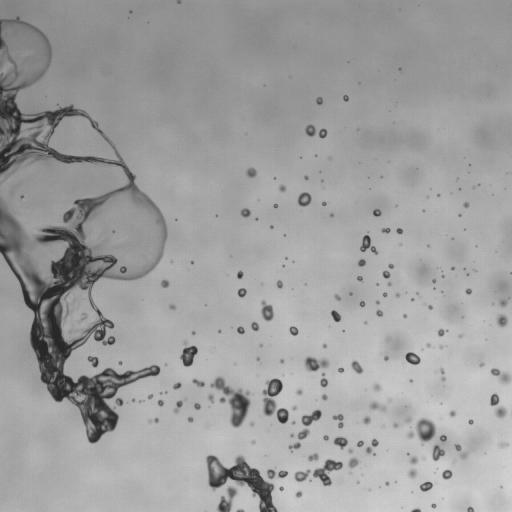droplet: (210, 376, 253, 427), (262, 378, 289, 423), (406, 417, 436, 446), (178, 340, 197, 367), (304, 356, 329, 372), (490, 368, 511, 385), (260, 299, 274, 321), (454, 443, 469, 459), (368, 400, 386, 413), (365, 438, 378, 455), (432, 444, 445, 461), (333, 436, 348, 450), (404, 352, 420, 365), (297, 192, 311, 206), (350, 360, 363, 374), (347, 456, 360, 469), (332, 413, 343, 428), (496, 314, 508, 327), (406, 452, 418, 465), (419, 480, 433, 491), (305, 124, 316, 137), (330, 310, 341, 322), (192, 378, 205, 388), (87, 356, 98, 367), (0, 62, 11, 73), (13, 95, 24, 106), (33, 159, 44, 170), (273, 191, 284, 202), (11, 210, 22, 221), (375, 216, 386, 227), (52, 217, 63, 228), (150, 268, 161, 279), (365, 302, 376, 313), (20, 329, 31, 340), (69, 348, 80, 359), (26, 349, 37, 360), (312, 349, 323, 360), (85, 366, 96, 377), (323, 366, 334, 377), (181, 379, 192, 390), (228, 380, 239, 391), (237, 382, 248, 393), (494, 384, 505, 395), (116, 386, 127, 397), (170, 389, 181, 400), (373, 391, 384, 402), (273, 394, 284, 405), (164, 396, 175, 407), (252, 399, 263, 410), (181, 403, 192, 414), (221, 403, 232, 414), (246, 404, 257, 415), (70, 406, 81, 417), (456, 411, 467, 422), (382, 412, 393, 423), (75, 421, 86, 432), (353, 447, 364, 458), (223, 457, 234, 468), (437, 457, 448, 468), (431, 473, 442, 484), (270, 475, 281, 486), (239, 482, 250, 493), (216, 484, 227, 495), (269, 490, 280, 501), (229, 498, 240, 509), (498, 297, 510, 307), (246, 167, 257, 177), (407, 468, 417, 479), (437, 328, 449, 337), (442, 469, 452, 479), (240, 208, 251, 217), (288, 326, 299, 335), (307, 452, 318, 461), (318, 128, 327, 138), (372, 382, 382, 391), (362, 415, 371, 425), (497, 441, 509, 448), (237, 288, 246, 297), (36, 104, 45, 113), (119, 176, 128, 185), (65, 200, 74, 209), (356, 266, 365, 275), (236, 278, 245, 287), (400, 293, 409, 302), (498, 306, 507, 315), (25, 309, 34, 318), (255, 315, 264, 324), (104, 327, 113, 336), (94, 364, 103, 373), (344, 365, 353, 374), (204, 375, 213, 384), (202, 384, 211, 393), (214, 388, 223, 397), (105, 397, 114, 406), (199, 397, 208, 406), (113, 405, 122, 414), (187, 407, 196, 416), (368, 409, 377, 418), (242, 414, 251, 423), (336, 428, 345, 437), (411, 434, 420, 443), (429, 435, 438, 444), (346, 438, 355, 447), (315, 459, 324, 468), (326, 469, 335, 478), (225, 477, 234, 486), (295, 481, 304, 490), (251, 321, 259, 331), (207, 393, 215, 403), (373, 208, 381, 217), (357, 258, 366, 266), (160, 279, 169, 287), (115, 397, 123, 406), (505, 364, 511, 375), (505, 403, 511, 414), (420, 505, 431, 511), (278, 184, 286, 192), (382, 270, 390, 278), (356, 440, 364, 448), (276, 280, 283, 289), (172, 382, 181, 389), (334, 293, 341, 301), (237, 326, 244, 334), (295, 388, 303, 395), (194, 402, 201, 410), (449, 409, 456, 417), (316, 96, 322, 105), (381, 227, 390, 233), (237, 270, 243, 279), (392, 422, 401, 428), (376, 309, 383, 316), (384, 336, 391, 343), (157, 399, 164, 406), (405, 416, 412, 423), (439, 434, 446, 441), (295, 490, 302, 497), (38, 76, 45, 83), (59, 101, 66, 108), (49, 104, 56, 111), (56, 160, 63, 167), (71, 160, 78, 167), (81, 160, 88, 167), (243, 162, 250, 169), (129, 166, 136, 173), (273, 179, 280, 186), (16, 187, 23, 194), (86, 191, 93, 198), (1, 192, 8, 199), (79, 192, 86, 199), (150, 195, 157, 202), (457, 205, 464, 212), (247, 213, 254, 220), (389, 228, 396, 235), (163, 240, 170, 247), (162, 248, 169, 255), (156, 261, 163, 268), (443, 268, 450, 275), (97, 276, 104, 283), (385, 286, 392, 293), (16, 291, 23, 298), (17, 294, 24, 301), (102, 311, 109, 318), (491, 319, 498, 326), (24, 325, 31, 332), (244, 325, 251, 332), (298, 359, 305, 366), (358, 360, 365, 367), (484, 364, 491, 371), (498, 365, 505, 372), (316, 366, 323, 373), (116, 367, 123, 374), (62, 368, 69, 375), (216, 370, 223, 377), (491, 374, 498, 381), (223, 379, 230, 386), (166, 384, 173, 391), (366, 385, 373, 392), (320, 386, 327, 393), (46, 394, 53, 401), (152, 394, 159, 401), (364, 398, 371, 405), (385, 402, 392, 409), (305, 408, 312, 415), (287, 413, 294, 420), (424, 413, 431, 420), (411, 416, 418, 423), (494, 416, 501, 423), (396, 417, 403, 424), (115, 419, 122, 426), (385, 421, 392, 428), (298, 423, 305, 430), (411, 427, 418, 434), (433, 430, 440, 437), (99, 433, 106, 440), (328, 433, 335, 440), (291, 436, 298, 443), (364, 439, 371, 446), (438, 441, 445, 448), (460, 443, 467, 450), (451, 449, 458, 456), (341, 459, 348, 466), (200, 461, 207, 468), (406, 462, 413, 469), (412, 462, 419, 469), (352, 465, 359, 472), (287, 471, 294, 478), (260, 472, 267, 479), (202, 474, 209, 481), (313, 476, 320, 483), (253, 494, 260, 501), (168, 304, 176, 310), (426, 342, 434, 348), (506, 299, 511, 308), (506, 316, 511, 325), (506, 380, 511, 389), (210, 506, 219, 511), (342, 94, 348, 101), (463, 201, 469, 208), (396, 228, 403, 234), (465, 288, 471, 295), (359, 300, 365, 307), (337, 367, 344, 373), (321, 394, 327, 401), (187, 416, 193, 423), (439, 344, 447, 349), (388, 263, 394, 269), (357, 276, 363, 282), (147, 393, 153, 399), (386, 397, 392, 403), (248, 421, 254, 427), (323, 435, 329, 441), (430, 502, 436, 508), (467, 506, 474, 511), (291, 405, 297, 410), (468, 419, 473, 425), (348, 447, 353, 453), (278, 486, 284, 491), (228, 507, 235, 511), (428, 507, 435, 511), (431, 507, 438, 511), (322, 200, 327, 205), (273, 203, 278, 208), (382, 292, 387, 297), (395, 292, 400, 297), (322, 343, 327, 348), (479, 362, 484, 367), (421, 455, 426, 460), (19, 16, 24, 21), (30, 20, 35, 25), (33, 22, 38, 27), (36, 24, 41, 29), (39, 26, 44, 31), (45, 33, 50, 38), (48, 39, 53, 44), (50, 45, 55, 50), (50, 49, 55, 54), (50, 55, 55, 60), (49, 60, 54, 65), (47, 65, 52, 70), (44, 70, 49, 75), (13, 97, 18, 102), (321, 100, 326, 105), (16, 104, 21, 109), (72, 104, 77, 109), (91, 115, 96, 120), (304, 120, 309, 125), (301, 123, 306, 128), (97, 124, 102, 129), (314, 128, 319, 133), (313, 132, 318, 137), (325, 132, 330, 137), (305, 134, 310, 139), (108, 135, 113, 140), (63, 162, 68, 167), (116, 165, 121, 170), (254, 166, 259, 171), (255, 170, 260, 175), (318, 173, 323, 178), (249, 176, 254, 181), (133, 178, 138, 183), (285, 185, 290, 190), (274, 187, 279, 192), (302, 187, 307, 192), (279, 191, 284, 196), (294, 192, 299, 197), (72, 195, 77, 200), (310, 195, 315, 200), (293, 199, 298, 204), (309, 199, 314, 204), (468, 202, 473, 207), (72, 203, 77, 208), (239, 204, 244, 209), (304, 204, 309, 209), (247, 205, 252, 210), (299, 205, 304, 210), (64, 206, 69, 211), (159, 207, 164, 212), (235, 209, 240, 214), (242, 216, 247, 221), (361, 230, 366, 235), (394, 232, 399, 237), (368, 233, 373, 238), (357, 240, 362, 245), (369, 240, 374, 245), (365, 247, 370, 252), (159, 257, 164, 262), (354, 257, 359, 262), (282, 259, 287, 264), (390, 259, 395, 264), (364, 260, 369, 265), (3, 262, 8, 267), (359, 265, 364, 270), (386, 267, 391, 272), (465, 267, 470, 272), (148, 270, 153, 275), (232, 272, 237, 277), (11, 274, 16, 279), (163, 275, 168, 280), (379, 275, 384, 280), (435, 275, 440, 280), (136, 277, 141, 282), (384, 277, 389, 282), (114, 278, 119, 283), (167, 278, 172, 283), (14, 279, 19, 284), (120, 279, 125, 284), (281, 280, 286, 285), (156, 282, 161, 287), (167, 283, 172, 288), (162, 286, 167, 291), (435, 287, 440, 292), (337, 291, 342, 296), (399, 291, 404, 296), (412, 293, 417, 298), (499, 295, 504, 300), (238, 296, 243, 301), (393, 296, 398, 301), (170, 299, 175, 304), (494, 299, 499, 304), (265, 300, 270, 305), (174, 302, 179, 307), (257, 304, 262, 309), (376, 304, 381, 309), (423, 305, 428, 310), (271, 306, 276, 311), (335, 308, 340, 313), (328, 315, 333, 320), (339, 316, 344, 321), (336, 320, 341, 325), (232, 325, 237, 330), (434, 325, 439, 330), (433, 331, 438, 336), (89, 332, 94, 337), (103, 335, 108, 340), (324, 339, 329, 344), (186, 342, 191, 347), (326, 343, 331, 348), (421, 343, 426, 348), (180, 344, 185, 349), (196, 347, 201, 352), (407, 347, 412, 352), (413, 349, 418, 354), (177, 350, 182, 355), (386, 351, 391, 356), (401, 351, 406, 356), (90, 352, 95, 357), (192, 354, 197, 359), (178, 359, 183, 364), (87, 361, 92, 366), (405, 361, 410, 366), (145, 362, 150, 367), (492, 363, 497, 368), (187, 364, 192, 369), (130, 366, 135, 371), (158, 369, 163, 374), (309, 369, 314, 374), (351, 369, 356, 374), (36, 371, 41, 376), (436, 372, 441, 377), (148, 374, 153, 379), (323, 374, 328, 379), (267, 375, 272, 380), (196, 376, 201, 381), (72, 377, 77, 382), (138, 377, 143, 382), (173, 378, 178, 383), (209, 378, 214, 383), (280, 379, 285, 384), (315, 379, 320, 384), (377, 379, 382, 384), (443, 379, 448, 384), (438, 380, 443, 385), (41, 382, 46, 387), (127, 382, 132, 387), (191, 382, 196, 387), (204, 382, 209, 387), (326, 382, 331, 387), (263, 384, 268, 389), (281, 384, 286, 389), (295, 384, 300, 389), (198, 385, 203, 390), (175, 387, 180, 392), (280, 387, 285, 392), (301, 388, 306, 393), (278, 390, 283, 395), (326, 393, 331, 398), (497, 393, 502, 398), (112, 394, 117, 399), (142, 394, 147, 399), (158, 394, 163, 399), (296, 394, 301, 399), (271, 395, 276, 400), (62, 396, 67, 401), (175, 396, 180, 401), (317, 396, 322, 401), (121, 397, 126, 402), (485, 397, 490, 402), (145, 398, 150, 403), (54, 400, 59, 405), (133, 400, 138, 405), (181, 401, 186, 406), (171, 402, 176, 407), (275, 404, 280, 409), (312, 405, 317, 410), (450, 405, 455, 410), (178, 406, 183, 411), (196, 408, 201, 413), (445, 408, 450, 413), (333, 410, 338, 415), (170, 411, 175, 416), (320, 411, 325, 416), (445, 413, 450, 418), (359, 414, 364, 419), (453, 414, 458, 419), (286, 417, 291, 422), (334, 418, 339, 423), (341, 418, 346, 423), (394, 418, 399, 423), (311, 419, 316, 424), (151, 421, 156, 426), (277, 421, 282, 426), (360, 422, 365, 427), (305, 424, 310, 429), (393, 427, 398, 432), (293, 431, 298, 436), (305, 434, 310, 439), (83, 436, 88, 441), (298, 438, 303, 443), (335, 444, 340, 449), (343, 444, 348, 449), (361, 444, 366, 449), (353, 445, 358, 450), (370, 445, 375, 450), (308, 450, 313, 455), (212, 451, 217, 456), (409, 451, 414, 456), (466, 453, 471, 458), (405, 455, 410, 460), (416, 455, 421, 460), (438, 455, 443, 460), (333, 457, 338, 462), (249, 463, 254, 468), (410, 463, 415, 468), (268, 464, 273, 469), (447, 465, 452, 470), (281, 466, 286, 471), (301, 467, 306, 472), (274, 468, 279, 473), (438, 468, 443, 473), (307, 472, 312, 477), (437, 472, 442, 477), (283, 475, 288, 480), (420, 478, 425, 483), (443, 478, 448, 483), (388, 480, 393, 485), (380, 482, 385, 487), (207, 485, 212, 490), (292, 488, 297, 493), (298, 495, 303, 500), (215, 498, 220, 503), (411, 504, 416, 509), (176, 0, 181, 4), (304, 175, 308, 180), (329, 213, 334, 217), (450, 266, 455, 270), (432, 278, 436, 283), (387, 281, 391, 286), (375, 300, 380, 304), (403, 313, 407, 318), (458, 334, 463, 338), (280, 358, 284, 363), (131, 397, 135, 402), (250, 440, 255, 444), (385, 481, 389, 486), (436, 193, 440, 197), (269, 225, 273, 229), (190, 260, 194, 264), (410, 297, 414, 301), (363, 320, 367, 324), (217, 329, 221, 333), (191, 331, 195, 335), (259, 343, 263, 347), (118, 361, 122, 365), (291, 420, 295, 424), (381, 424, 385, 428), (290, 433, 294, 437), (308, 478, 312, 482), (499, 485, 503, 489), (508, 442, 511, 447), (255, 508, 260, 511), (328, 156, 332, 159), (458, 213, 461, 217), (254, 217, 258, 220), (399, 242, 402, 246), (170, 259, 173, 263), (349, 292, 353, 295), (409, 379, 413, 382), (171, 0, 176, 2), (180, 0, 185, 2), (0, 14, 2, 19), (0, 252, 2, 257), (129, 10, 132, 13), (398, 67, 401, 70), (314, 154, 317, 157), (273, 176, 276, 179), (320, 179, 323, 182), (458, 187, 461, 190), (426, 195, 429, 198), (422, 209, 425, 212), (215, 214, 218, 217), (174, 218, 177, 221), (283, 233, 286, 236), (282, 264, 285, 267), (463, 267, 466, 270), (466, 273, 469, 276), (260, 282, 263, 285), (376, 283, 379, 286), (491, 302, 494, 305), (342, 329, 345, 332), (420, 348, 423, 351), (164, 363, 167, 366), (348, 471, 351, 474), (356, 480, 359, 483), (394, 480, 397, 483), (368, 488, 371, 491), (176, 3, 179, 6), (129, 7, 132, 10), (128, 13, 131, 16), (12, 16, 15, 19), (397, 64, 400, 67), (400, 68, 403, 71), (396, 69, 399, 72), (341, 92, 344, 95), (347, 94, 350, 97), (347, 98, 350, 101), (341, 99, 344, 102), (313, 101, 316, 104), (319, 103, 322, 106), (322, 125, 325, 128), (323, 136, 326, 139), (319, 137, 322, 140), (316, 152, 319, 155), (298, 153, 301, 156), (311, 153, 314, 156), (316, 155, 319, 158), (298, 158, 301, 161), (468, 160, 471, 163), (465, 163, 468, 166), (470, 163, 473, 166), (270, 175, 273, 178), (307, 175, 310, 178), (301, 176, 304, 179), (317, 179, 320, 182), (321, 181, 324, 184), (474, 182, 477, 185), (457, 184, 460, 187), (479, 184, 482, 187), (475, 185, 478, 188), (460, 186, 463, 189), (436, 190, 439, 193), (19, 192, 22, 195), (433, 193, 436, 196), (23, 194, 26, 197), (439, 194, 442, 197), (17, 196, 20, 199), (436, 196, 439, 199), (21, 197, 24, 200), (321, 198, 324, 201), (465, 199, 468, 202), (273, 200, 276, 203), (461, 200, 464, 203), (318, 201, 321, 204), (277, 203, 280, 206), (321, 205, 324, 208), (423, 206, 426, 209), (273, 207, 276, 210), (379, 208, 382, 211), (419, 210, 422, 213), (216, 211, 219, 214), (332, 211, 335, 214), (423, 211, 426, 214), (455, 211, 458, 214), (380, 212, 383, 215), (326, 213, 329, 216), (212, 214, 215, 217), (257, 215, 260, 218), (373, 215, 376, 218), (376, 215, 379, 218), (176, 216, 179, 219), (216, 216, 219, 219), (329, 216, 332, 219), (458, 216, 461, 219), (176, 219, 179, 222), (253, 219, 256, 222), (256, 219, 259, 222), (271, 222, 274, 225), (266, 224, 269, 227), (383, 225, 386, 228), (398, 225, 401, 228), (267, 227, 270, 230), (272, 227, 275, 230), (460, 227, 463, 230), (463, 230, 466, 233), (401, 231, 404, 234), (280, 232, 283, 235), (285, 233, 288, 236), (282, 236, 285, 239), (451, 239, 454, 242), (429, 243, 432, 246), (423, 244, 426, 247), (375, 247, 378, 250), (284, 253, 287, 256), (281, 256, 284, 259), (287, 256, 290, 259), (190, 257, 193, 260), (388, 260, 391, 263), (187, 261, 190, 264), (193, 261, 196, 264), (450, 263, 453, 266), (463, 264, 466, 267), (279, 265, 282, 268), (284, 265, 287, 268), (440, 266, 443, 269), (437, 268, 440, 271), (451, 269, 454, 272), (439, 271, 442, 274), (442, 271, 445, 274), (468, 273, 471, 276), (508, 273, 511, 276), (241, 275, 244, 278), (353, 275, 356, 278), (443, 276, 446, 279), (362, 277, 365, 280), (355, 279, 358, 282), (358, 280, 361, 283), (429, 280, 432, 283), (372, 282, 375, 285), (432, 283, 435, 286), (274, 284, 277, 287), (466, 285, 469, 288), (235, 288, 238, 291), (415, 288, 418, 291), (442, 288, 445, 291), (350, 289, 353, 292), (380, 290, 383, 293), (90, 291, 93, 294), (442, 291, 445, 294), (463, 291, 466, 294), (470, 291, 473, 294), (386, 292, 389, 295), (418, 292, 421, 295), (235, 293, 238, 296), (244, 293, 247, 296), (349, 295, 352, 298), (380, 295, 383, 298), (383, 296, 386, 299), (407, 297, 410, 300), (363, 299, 366, 302), (411, 300, 414, 303), (356, 301, 359, 304), (426, 302, 429, 305), (430, 302, 433, 305), (364, 303, 367, 306), (357, 304, 360, 307), (361, 306, 364, 309), (169, 308, 172, 311), (430, 308, 433, 311), (99, 309, 102, 312), (373, 310, 376, 313), (402, 310, 405, 313), (382, 312, 385, 315), (405, 312, 408, 315), (375, 314, 378, 317), (378, 315, 381, 318), (400, 315, 403, 318), (361, 318, 364, 321), (366, 319, 369, 322), (291, 323, 294, 326), (362, 323, 365, 326), (296, 326, 299, 329), (442, 327, 445, 330), (344, 328, 347, 331), (194, 329, 197, 332), (214, 329, 217, 332), (220, 329, 223, 332), (339, 330, 342, 333), (188, 331, 191, 334), (235, 331, 238, 334), (443, 331, 446, 334), (194, 332, 197, 335), (218, 332, 221, 335), (289, 333, 292, 336), (440, 335, 443, 338), (460, 336, 463, 339), (114, 337, 117, 340), (259, 340, 262, 343), (256, 342, 259, 345), (106, 343, 109, 346), (319, 344, 322, 347), (261, 345, 264, 348), (442, 346, 445, 349), (323, 347, 326, 350), (84, 355, 87, 358), (279, 355, 282, 358), (380, 355, 383, 358), (253, 356, 256, 359), (117, 358, 120, 361), (259, 358, 262, 361), (276, 359, 279, 362), (283, 359, 286, 362), (386, 359, 389, 362), (256, 360, 259, 363), (477, 360, 480, 363), (278, 362, 281, 365), (338, 364, 341, 367), (443, 368, 446, 371), (337, 371, 340, 374), (341, 371, 344, 374), (442, 373, 445, 376), (410, 376, 413, 379), (412, 379, 415, 382), (407, 381, 410, 384), (158, 388, 161, 391), (147, 391, 150, 394), (135, 398, 138, 401), (194, 399, 197, 402), (140, 401, 143, 404), (191, 402, 194, 405), (155, 414, 158, 417), (151, 416, 154, 419), (469, 416, 472, 419), (192, 417, 195, 420), (158, 418, 161, 421), (184, 418, 187, 421), (465, 419, 468, 422), (472, 420, 475, 423), (188, 421, 191, 424), (253, 423, 256, 426), (467, 423, 470, 426), (325, 432, 328, 435), (443, 432, 446, 435), (320, 436, 323, 439), (446, 436, 449, 439), (358, 437, 361, 440), (376, 438, 379, 441), (322, 439, 325, 442), (355, 439, 358, 442), (504, 439, 507, 442), (255, 440, 258, 443), (252, 443, 255, 446), (285, 445, 288, 448), (287, 448, 290, 451), (372, 455, 375, 458), (451, 471, 454, 474), (450, 475, 453, 478), (358, 478, 361, 481), (385, 478, 388, 481), (427, 478, 430, 481), (353, 479, 356, 482), (396, 479, 399, 482), (356, 483, 359, 486), (502, 484, 505, 487), (496, 485, 499, 488), (417, 487, 420, 490), (282, 488, 285, 491), (426, 489, 429, 492), (432, 500, 435, 503), (428, 502, 431, 505), (435, 503, 438, 506), (429, 506, 432, 509), (472, 506, 475, 509), (299, 156, 302, 158), (380, 176, 383, 178), (257, 199, 260, 201), (395, 204, 397, 207), (451, 237, 454, 239), (427, 244, 429, 247), (441, 290, 443, 293), (461, 316, 464, 318), (509, 268, 511, 271), (464, 509, 467, 511), (358, 82, 360, 84), (357, 128, 359, 130), (319, 171, 321, 173), (450, 192, 452, 194), (464, 228, 466, 230), (475, 245, 477, 247), (285, 257, 287, 259), (292, 260, 294, 262), (227, 274, 229, 276), (304, 283, 306, 285), (433, 287, 435, 289), (405, 291, 407, 293), (204, 304, 206, 306), (485, 338, 487, 340), (282, 374, 284, 376), (440, 402, 442, 404), (208, 405, 210, 407), (436, 467, 438, 469), (411, 491, 413, 493), (442, 497, 444, 499), (510, 272, 511, 274), (315, 399, 317, 400)
ligament: (288, 409, 321, 453), (489, 392, 507, 418), (173, 398, 187, 414), (266, 469, 288, 479), (76, 312, 88, 324), (320, 372, 328, 387), (439, 367, 446, 381), (380, 352, 389, 361), (423, 302, 433, 310), (148, 417, 159, 423), (472, 183, 480, 189), (410, 507, 422, 511), (256, 356, 261, 363), (159, 390, 167, 394), (20, 193, 25, 199), (451, 459, 456, 465), (235, 508, 245, 511), (441, 269, 444, 278), (416, 292, 420, 298), (138, 400, 144, 403), (209, 351, 214, 353), (456, 177, 458, 181), (473, 269, 477, 271), (292, 288, 293, 290)
